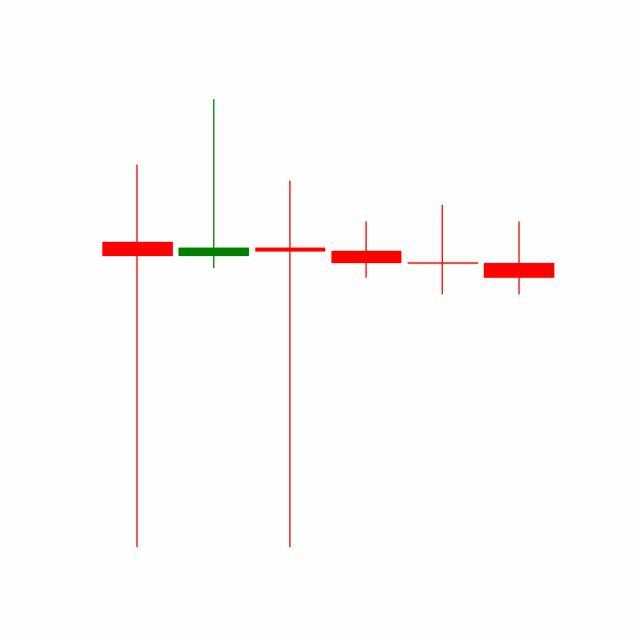Spinning Top: (404, 205, 482, 297)
